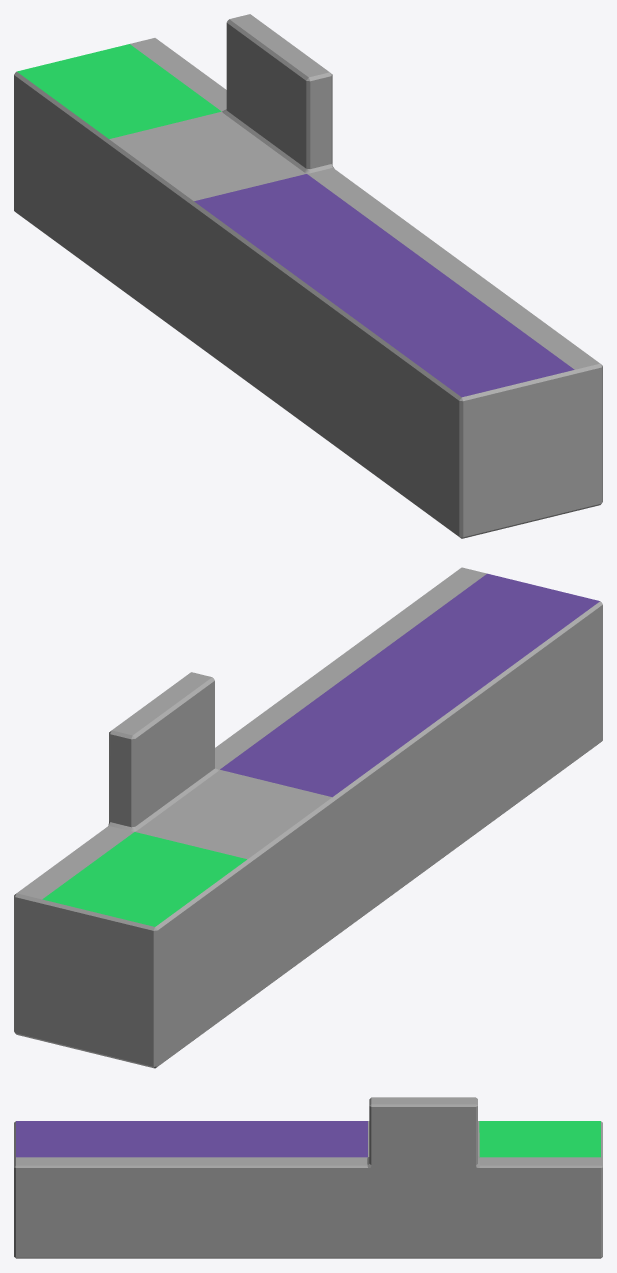
File: cashrap.fbx
The picture shows the model from 3 angles, top to bottom: view 1: azimuth 30°, elevation 25°; view 2: azimuth 150°, elevation 25°; view 3: azimuth 270°, elevation 25°; orthographic projection. The views are drawn at different scales.
Parts seen in each view (by area): view 1: pCube1; view 2: pCube1; view 3: pCube1.
Boxes of the visible parts, <box> form: pCube1: <box>14,14,602,538</box>; pCube1: <box>14,567,602,1068</box>; pCube1: <box>14,1097,602,1258</box>.
Size of the model in its own units: 3.71 by 5.79 by 20.04.
